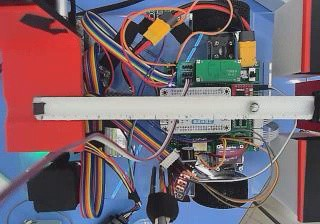ironball: (248, 101, 258, 112)
